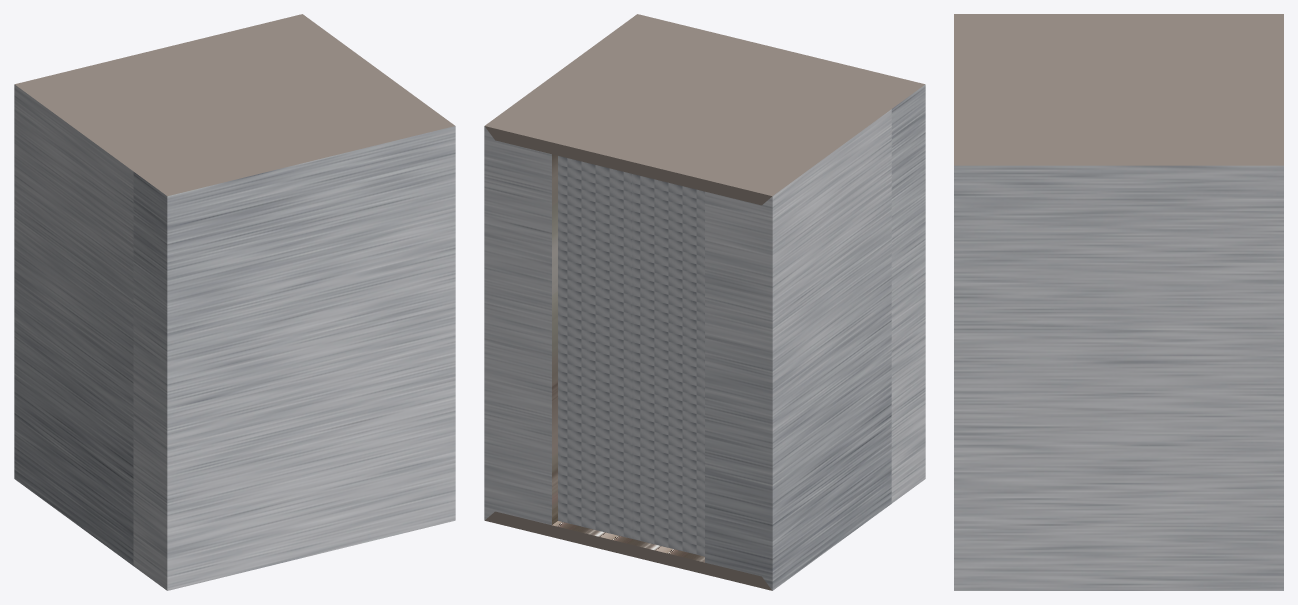
The model's file is elevator.fbx.
The picture shows the model from 3 angles, left to right: view 1: azimuth 30°, elevation 25°; view 2: azimuth 150°, elevation 25°; view 3: azimuth 270°, elevation 25°; orthographic projection. The views are drawn at different scales.
Visible parts, largest first — view 1: outside; view 2: outside, Right door, Left Door; view 3: outside.
Part boxes in pixels (left/top/right/bottom): outside: left=14, top=14, right=455, bottom=590; outside: left=484, top=14, right=925, bottom=590; Right door: left=558, top=156, right=632, bottom=538; Left Door: left=631, top=174, right=704, bottom=556; outside: left=954, top=14, right=1283, bottom=590.
Bounding box in the file's own units: 14.79 × 19.36 × 13.6.
Materials: 5 (5 with a texture image).
